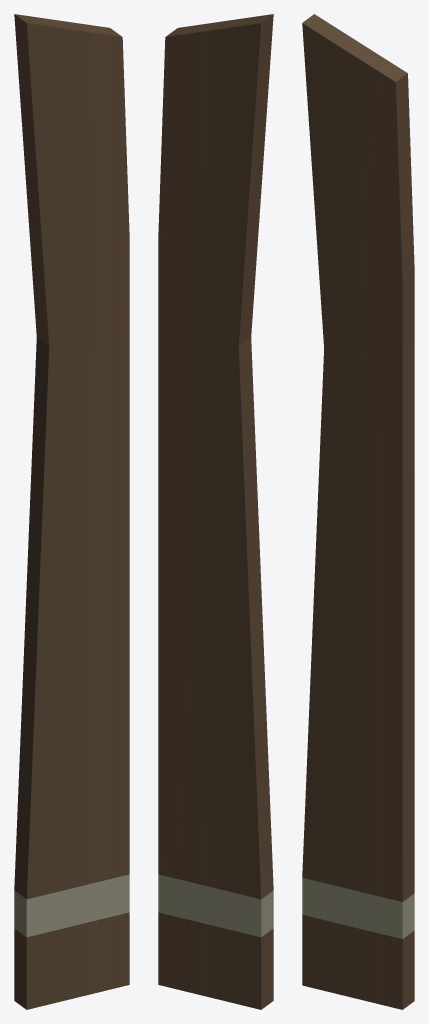
The model's file is Wood_7B.fbx.
The picture shows the model from 3 angles, left to right: view 1: azimuth 30°, elevation 25°; view 2: azimuth 150°, elevation 25°; view 3: azimuth 330°, elevation 25°; orthographic projection. The views are drawn at different scales.
Visible parts, largest first — view 1: pCube612; view 2: pCube612; view 3: pCube612.
Part boxes in pixels (x1,y1,x2,y2): pCube612: [14, 14, 129, 1009]; pCube612: [158, 14, 273, 1009]; pCube612: [302, 14, 414, 1009].
Size of the model in its own units: 24 by 220 by 5.04.
